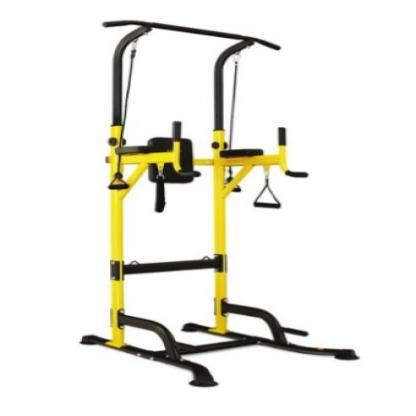chinning dipping: (84, 19, 361, 387)
